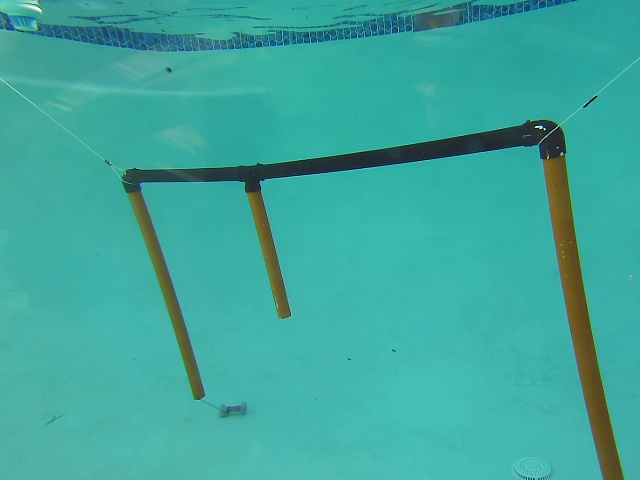Gate: (535, 150, 633, 480), (120, 185, 207, 406), (244, 184, 293, 323)
